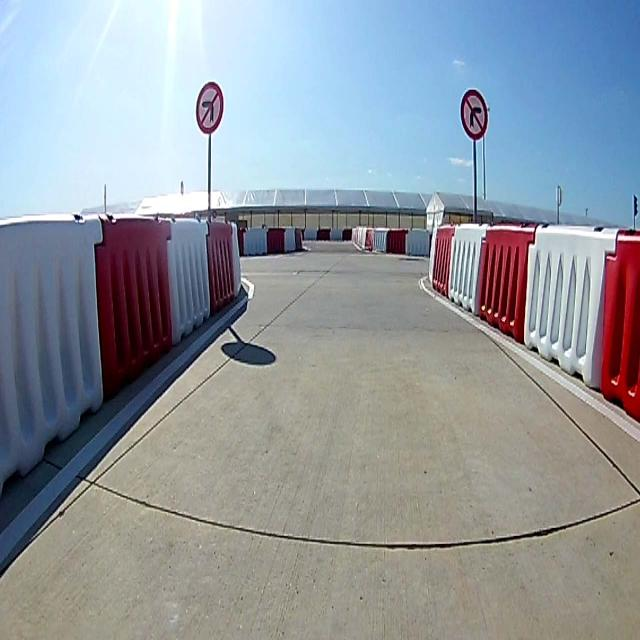sagadonulmez: (460, 87, 486, 140)
soladonulmez: (197, 82, 221, 134)
